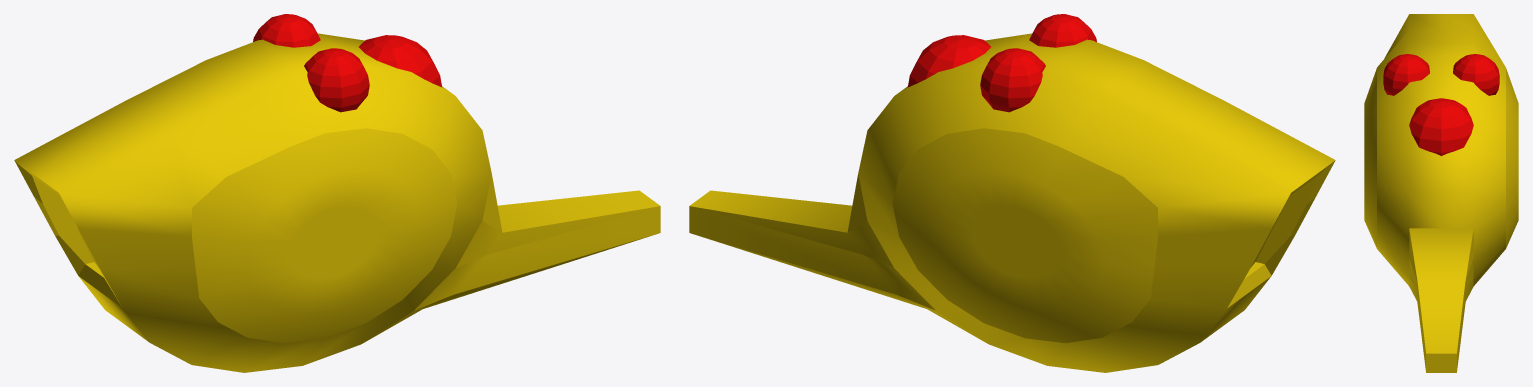
Rendered from battleship_02_incolor_01.fbx.
The picture shows the model from 3 angles, left to right: view 1: azimuth 30°, elevation 25°; view 2: azimuth 150°, elevation 25°; view 3: azimuth 270°, elevation 25°; orthographic projection. The views are drawn at different scales.
Parts seen in each view (by area): view 1: polySurface5; view 2: polySurface5; view 3: polySurface5.
Boxes of the visible parts, bbox=[...] form: polySurface5: bbox=[14, 14, 660, 372]; polySurface5: bbox=[689, 14, 1335, 372]; polySurface5: bbox=[1364, 14, 1518, 372].
Size of the model in its own units: 3.97 by 1.9 by 1.2.
